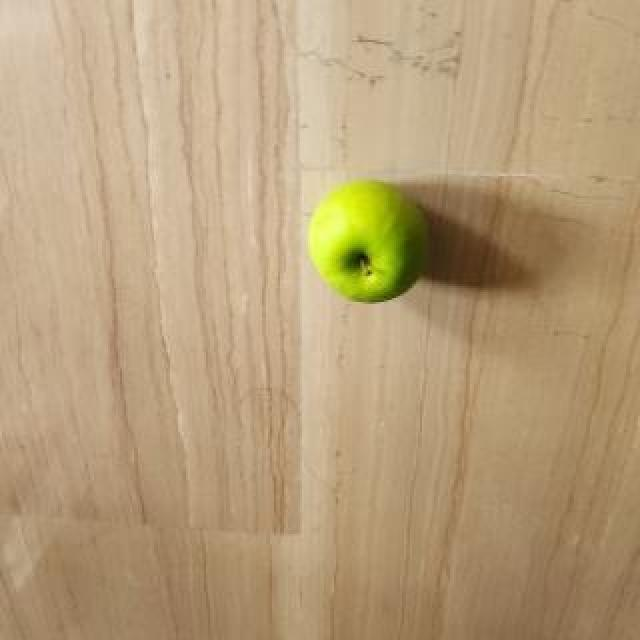green apple: (307, 184, 430, 310)
